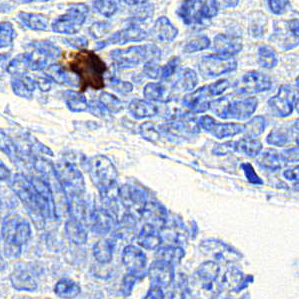Lymphocyte: (61, 49, 108, 93)
